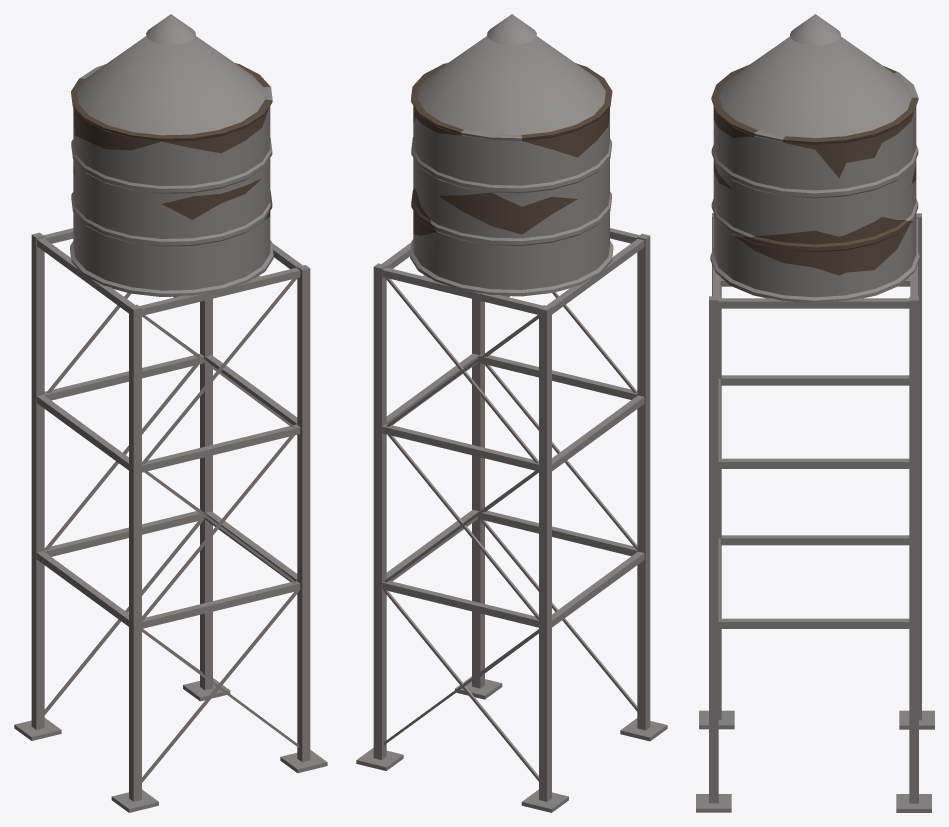
File: water-tower.glb
3 views of the same model, side by side, from view 1: azimuth 30°, elevation 25°; view 2: azimuth 150°, elevation 25°; view 3: azimuth 270°, elevation 25° (orthographic). The views are drawn at different scales.
Parts seen in each view (by area): view 1: WaterTower; view 2: WaterTower; view 3: WaterTower.
Part boxes in pixels (bbox=[...]): WaterTower: bbox=[14, 14, 327, 812]; WaterTower: bbox=[356, 14, 667, 812]; WaterTower: bbox=[696, 14, 934, 812].
Bounding box in the file's own units: 2.65 × 9.38 × 2.71.
1 material, 1 textured.
